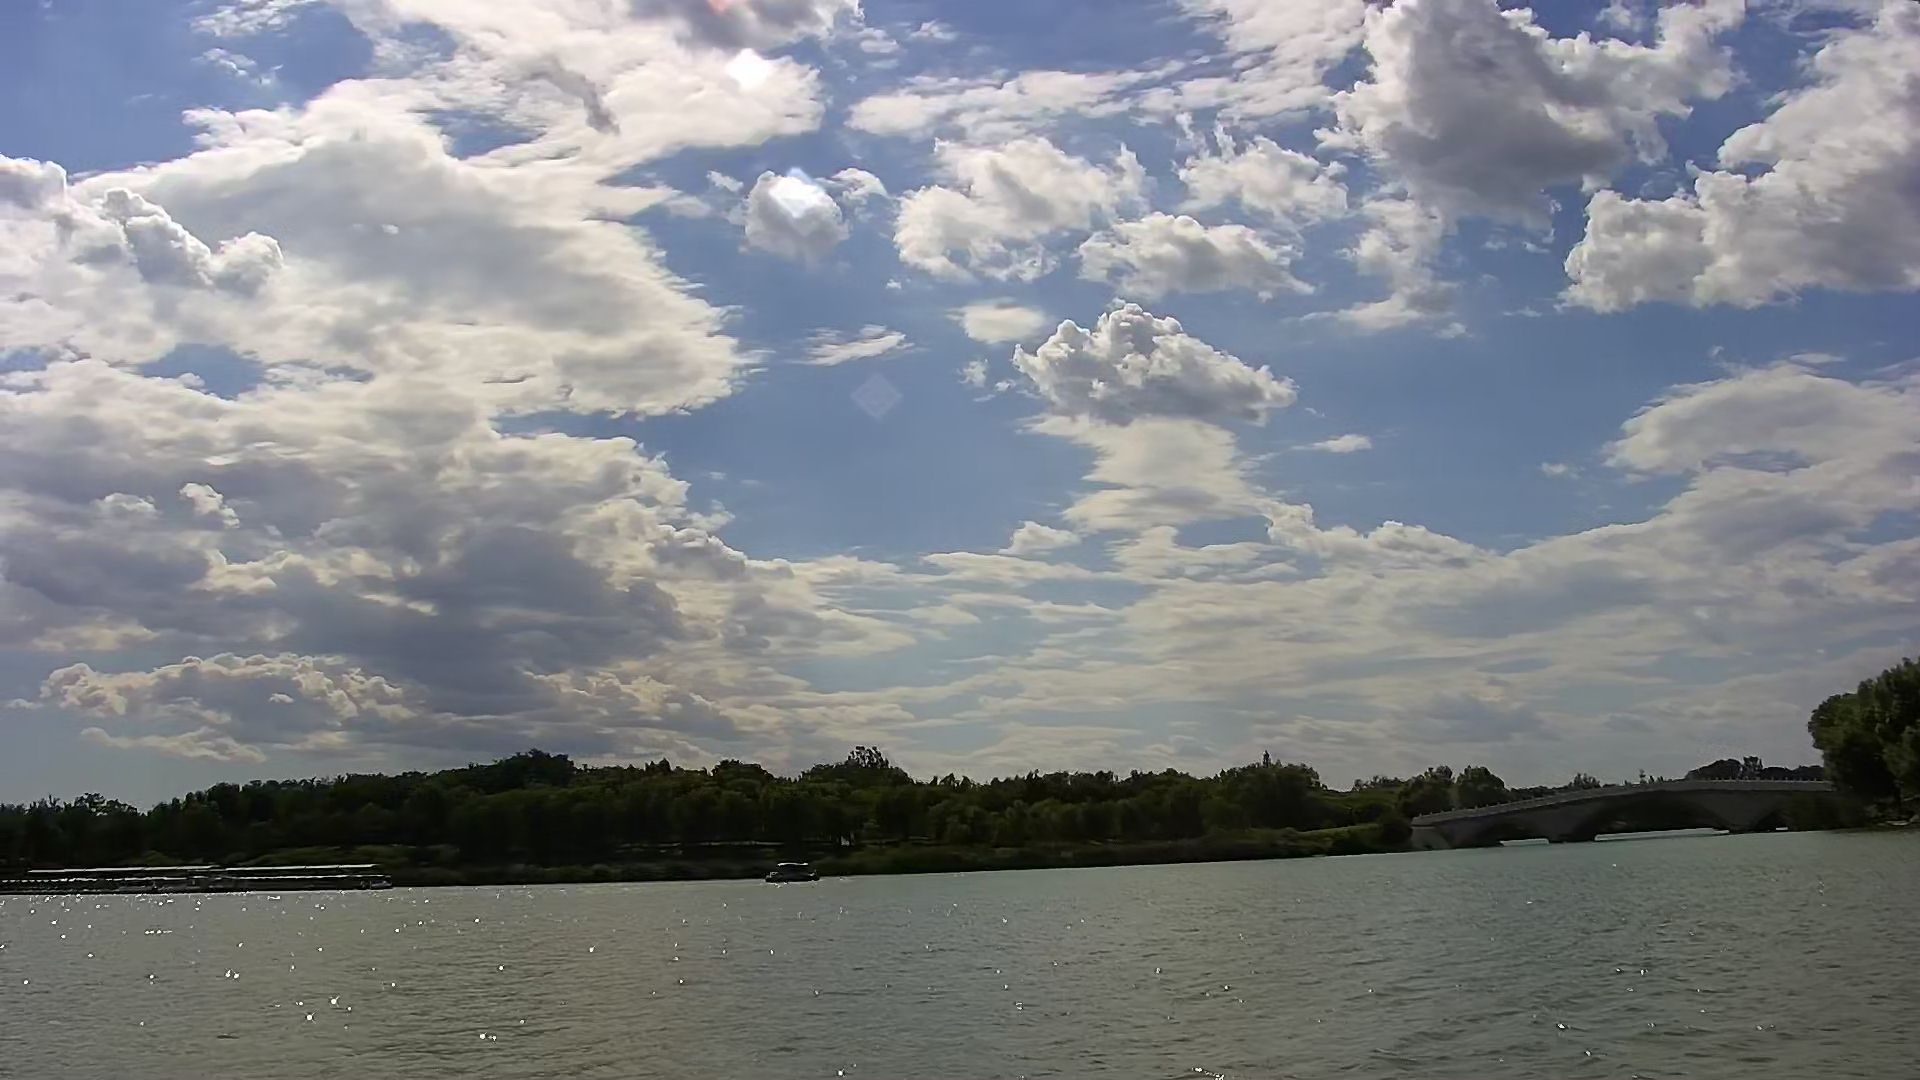boat: (761, 858, 823, 886)
bridge: (1414, 777, 1828, 841)
harbor: (13, 864, 388, 897)
